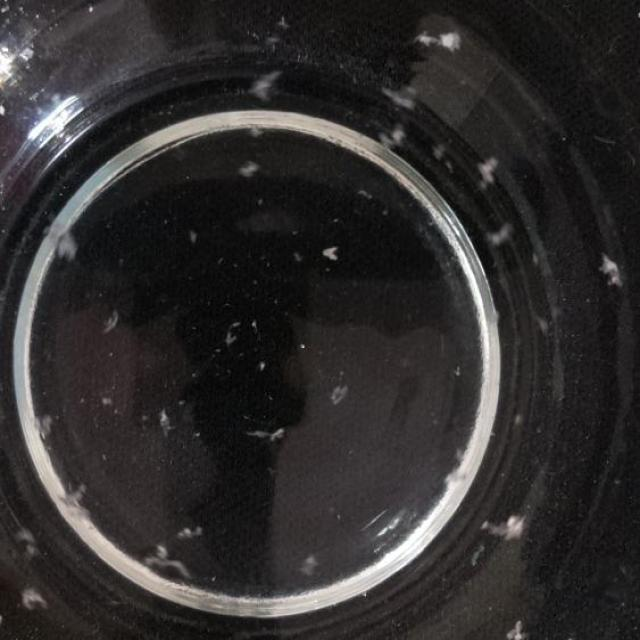fiber: (147, 536, 196, 595), (38, 223, 88, 267), (409, 22, 467, 59), (245, 66, 292, 110), (358, 125, 408, 165), (59, 476, 91, 532), (9, 521, 52, 560), (488, 507, 524, 548), (386, 80, 428, 113), (31, 402, 60, 448), (482, 214, 519, 250), (596, 247, 626, 290), (16, 586, 50, 618), (313, 237, 349, 267), (296, 547, 324, 584), (95, 310, 122, 348), (176, 509, 206, 542), (150, 403, 181, 434), (323, 380, 353, 411), (482, 146, 504, 187), (502, 614, 534, 639), (244, 422, 273, 447), (241, 152, 259, 190), (550, 294, 564, 342), (533, 310, 554, 342), (267, 423, 291, 449), (510, 408, 532, 432), (0, 610, 15, 639)
